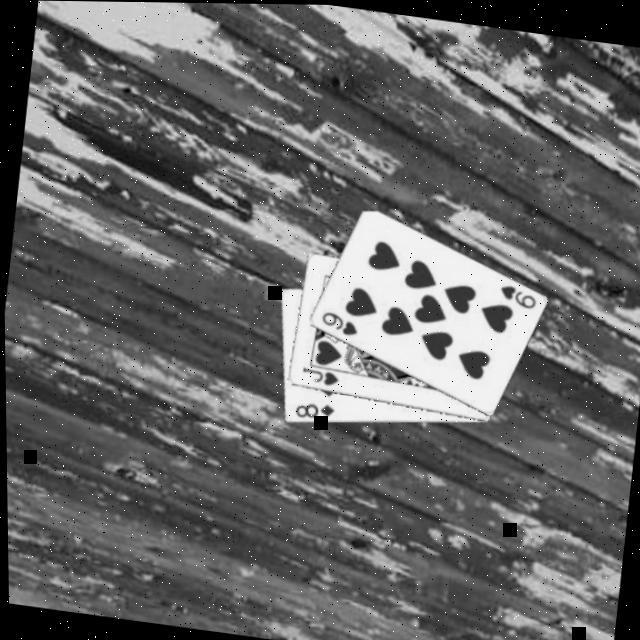8D: (290, 396, 336, 424)
9H: (494, 280, 540, 312), (316, 308, 360, 340)
JH: (297, 362, 341, 390)
